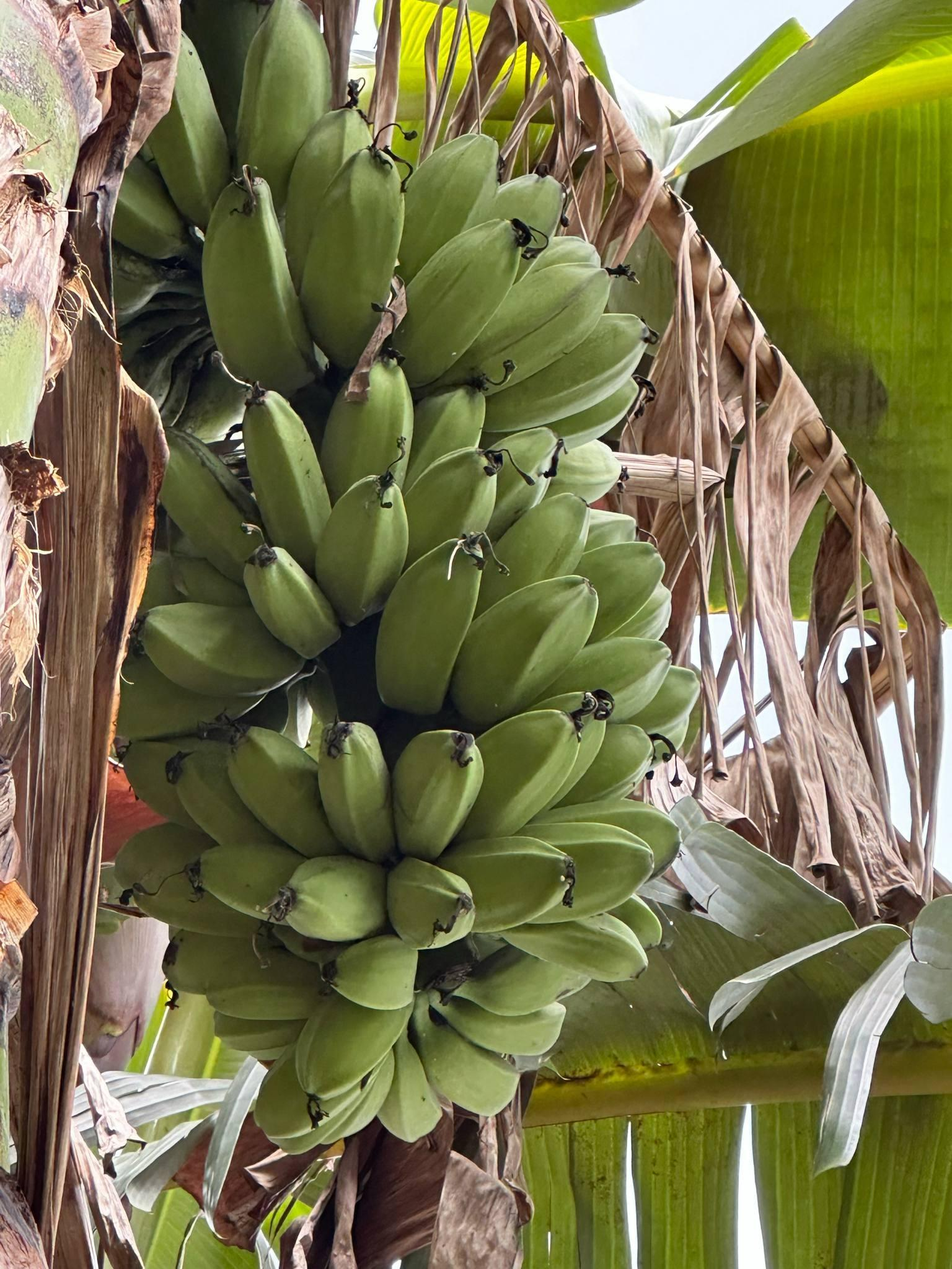underripe: (113, 0, 647, 496), (113, 693, 678, 1151), (119, 349, 698, 747)
